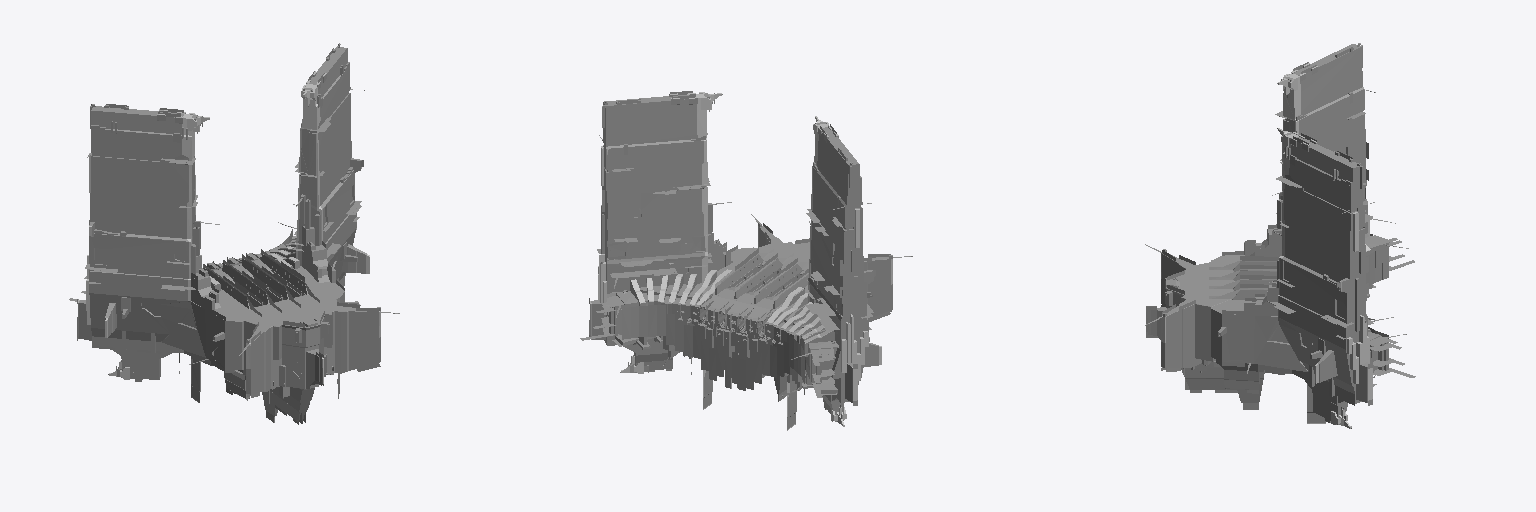
File: KeepstarNN.obj
3 views of the same model, side by side, from view 1: azimuth 30°, elevation 25°; view 2: azimuth 150°, elevation 25°; view 3: azimuth 270°, elevation 25° (orthographic).
Parts seen in each view (by area): view 1: default; view 2: default; view 3: default.
Part boxes in pixels (x1,y1,x2,y2): default: (69, 43, 399, 424); default: (580, 91, 912, 430); default: (1145, 43, 1415, 428).
Bounding box in the file's own units: 7.58 × 7.99 × 6.44.